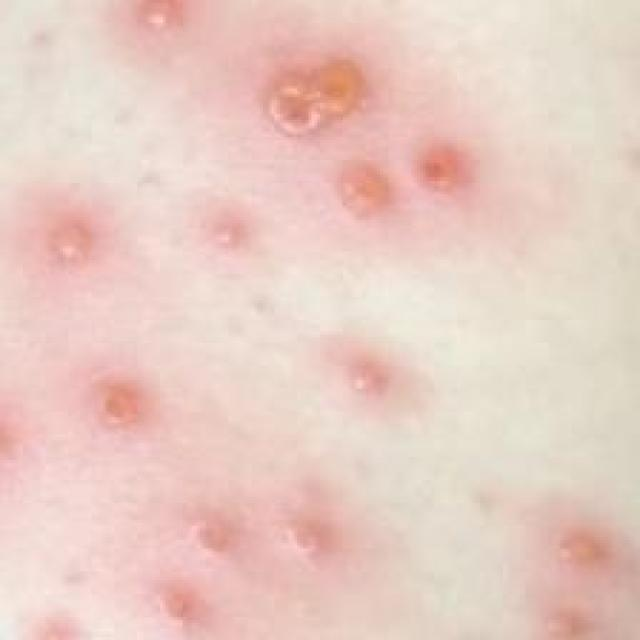others: (15, 0, 602, 635)
